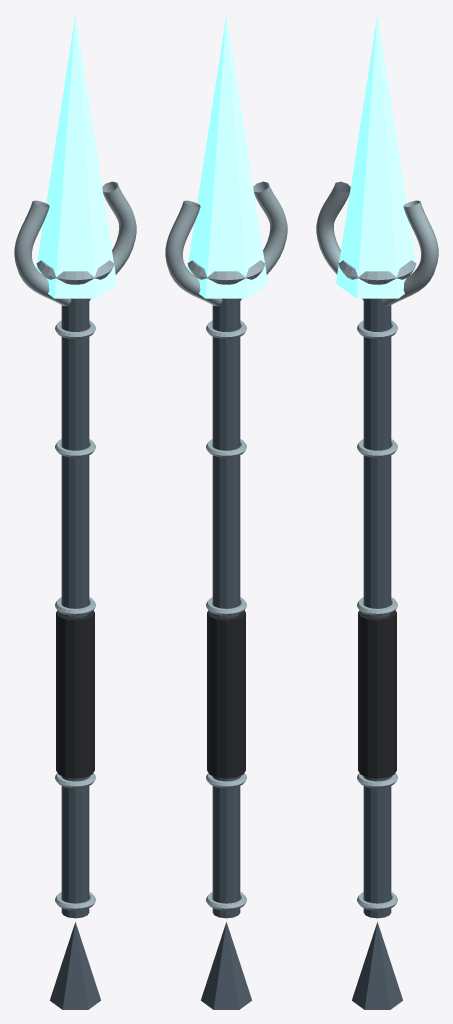
File: Lightning_Spear.glb
The picture shows the model from 3 angles, left to right: view 1: azimuth 30°, elevation 25°; view 2: azimuth 210°, elevation 25°; view 3: azimuth 330°, elevation 25°; orthographic projection.
Visible parts, largest first — view 1: Long balanced haft, Diamond storm lance tip, Central bound grip, Counterweight steel point, Swept lightning guard, Swept lightning guard.001, Focus collar, Silver binding.003, Silver binding.002, Silver binding.004, Silver binding, Silver binding.001; view 2: Long balanced haft, Diamond storm lance tip, Central bound grip, Counterweight steel point, Swept lightning guard.001, Swept lightning guard, Focus collar, Silver binding.003, Silver binding.002, Silver binding.004, Silver binding, Silver binding.001; view 3: Long balanced haft, Diamond storm lance tip, Central bound grip, Counterweight steel point, Swept lightning guard.001, Swept lightning guard, Focus collar, Silver binding.003, Silver binding.002, Silver binding.004, Silver binding, Silver binding.001.
Boxes of the visible parts, <box> form: Long balanced haft: <box>61,298,89,918</box>; Diamond storm lance tip: <box>36,14,116,298</box>; Central bound grip: <box>56,610,94,778</box>; Counterweight steel point: <box>50,921,100,1009</box>; Swept lightning guard: <box>14,200,71,306</box>; Swept lightning guard.001: <box>89,181,136,300</box>; Focus collar: <box>36,260,114,284</box>; Silver binding.003: <box>55,439,95,457</box>; Silver binding.002: <box>55,597,95,615</box>; Silver binding.004: <box>55,320,95,339</box>; Silver binding: <box>55,892,95,910</box>; Silver binding.001: <box>55,773,95,788</box>; Long balanced haft: <box>212,298,240,918</box>; Diamond storm lance tip: <box>187,14,267,298</box>; Central bound grip: <box>207,610,245,778</box>; Counterweight steel point: <box>201,921,251,1009</box>; Swept lightning guard.001: <box>165,200,222,306</box>; Swept lightning guard: <box>240,181,287,300</box>; Focus collar: <box>187,260,265,284</box>; Silver binding.003: <box>206,439,246,457</box>; Silver binding.002: <box>206,597,246,615</box>; Silver binding.004: <box>206,320,246,339</box>; Silver binding: <box>206,892,246,910</box>; Silver binding.001: <box>206,773,246,788</box>; Long balanced haft: <box>363,298,391,918</box>; Diamond storm lance tip: <box>336,14,416,298</box>; Central bound grip: <box>358,610,396,778</box>; Counterweight steel point: <box>352,921,402,1009</box>; Swept lightning guard.001: <box>381,200,438,306</box>; Swept lightning guard: <box>316,181,363,300</box>; Focus collar: <box>338,260,416,284</box>; Silver binding.003: <box>357,439,397,457</box>; Silver binding.002: <box>357,597,397,615</box>; Silver binding.004: <box>357,320,397,339</box>; Silver binding: <box>357,892,397,910</box>; Silver binding.001: <box>357,773,397,788</box>.
Bounding box in the file's own units: 0.3511 × 2.74 × 0.21.
